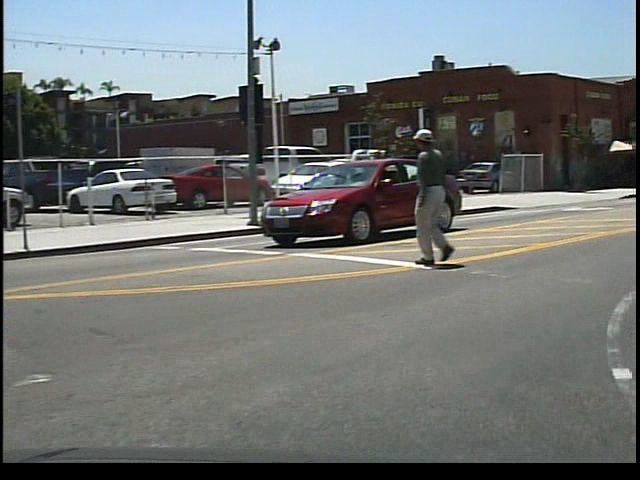person: (411, 118, 479, 273)
